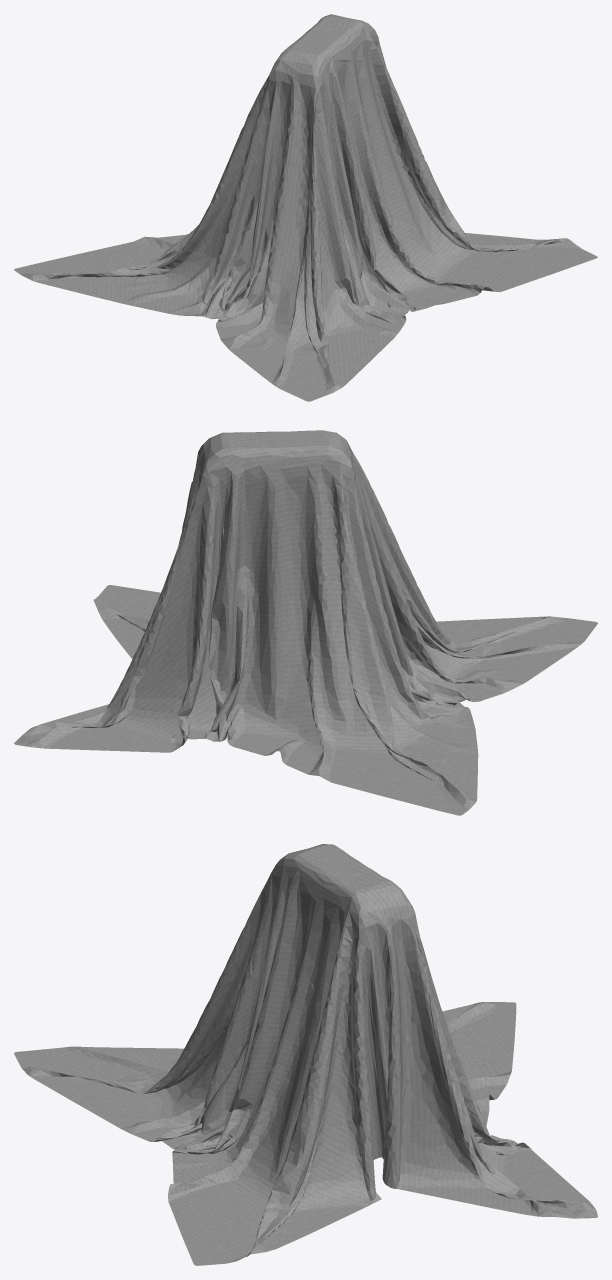
Rendered from Cover1.fbx.
3 views of the same model, one above another, from view 1: azimuth 30°, elevation 25°; view 2: azimuth 150°, elevation 25°; view 3: azimuth 270°, elevation 25° (orthographic). The views are drawn at different scales.
Parts seen in each view (by area): view 1: Plane.027; view 2: Plane.027; view 3: Plane.027.
Boxes of the visible parts, bbox=[...] form: Plane.027: bbox=[14, 14, 597, 401]; Plane.027: bbox=[14, 430, 597, 815]; Plane.027: bbox=[14, 844, 597, 1265].
Bounding box in the file's own units: 780 × 378 × 731.
1 material, 1 textured.
